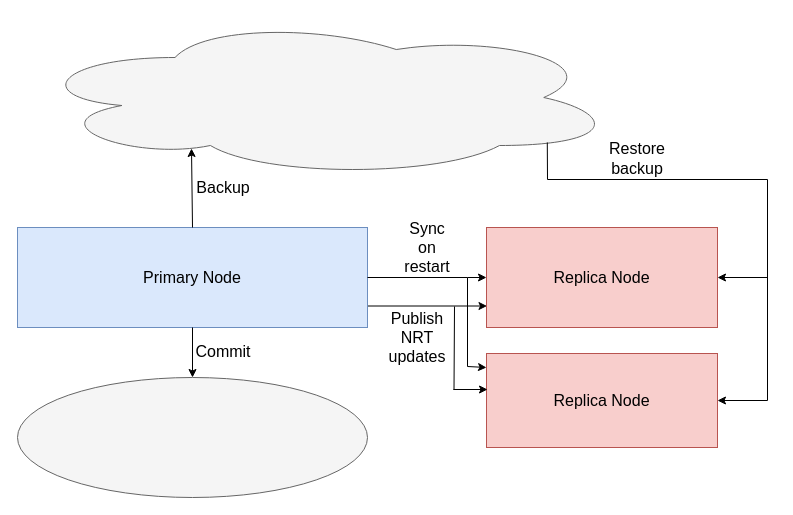
The diagram is 793 pixels wide and 515 high, and some of its shapes have lost their labels. The centre of each missing label's shape, as x and y in pixels:
"Persistent storage" belongs at [192,437].
"Remote storage: index name + primary gen + version" belongs at [322,97].
